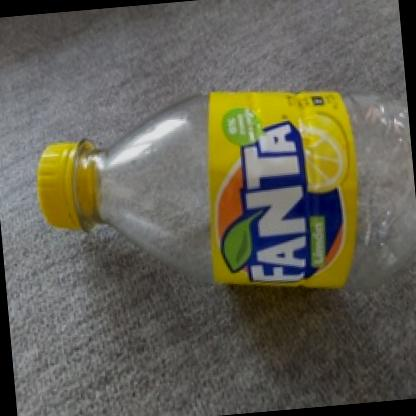plastic_bottles: (29, 68, 416, 316)
